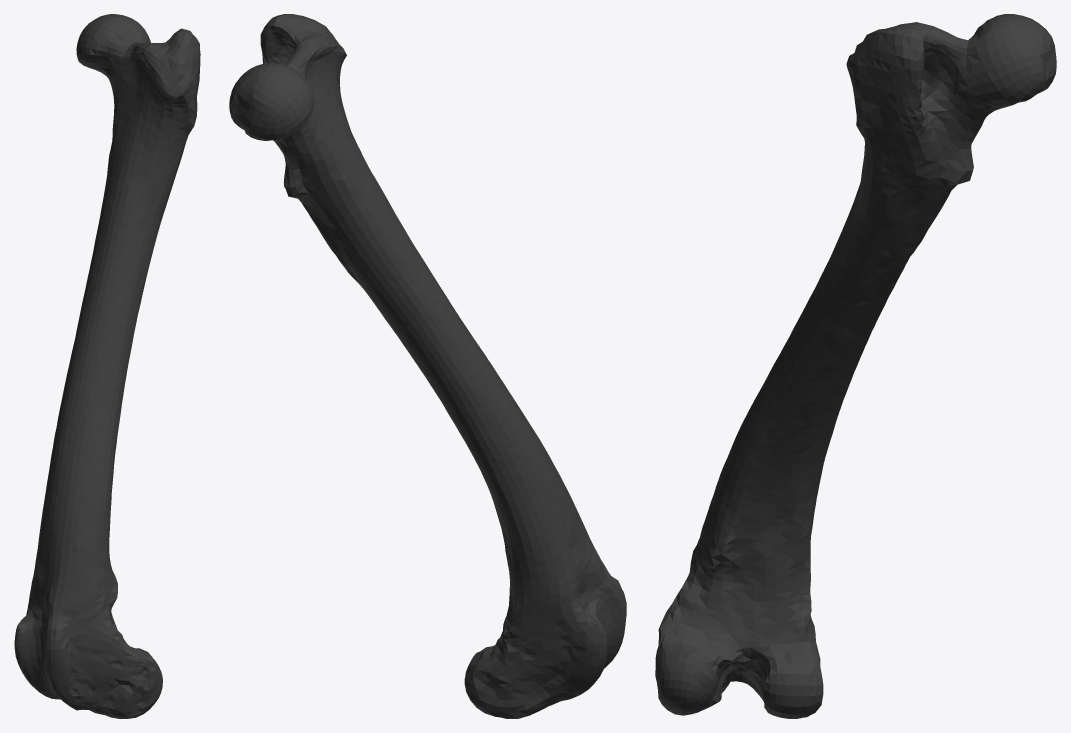
Rendered from femoris_L.glb.
3 renders of one model, left to right at view 1: azimuth 30°, elevation 25°; view 2: azimuth 150°, elevation 25°; view 3: azimuth 270°, elevation 25°, orthographic. The views are drawn at different scales.
Visible parts, largest first — view 1: femoris_L; view 2: femoris_L; view 3: femoris_L.
Boxes of the visible parts, x1,y1,x2,y2 form: femoris_L: [14, 14, 200, 718]; femoris_L: [229, 14, 626, 718]; femoris_L: [655, 14, 1056, 718].
Bounding box in the file's own units: 0.1224 × 0.2912 × 0.1359.
Materials: 1 (1 with a texture image).
